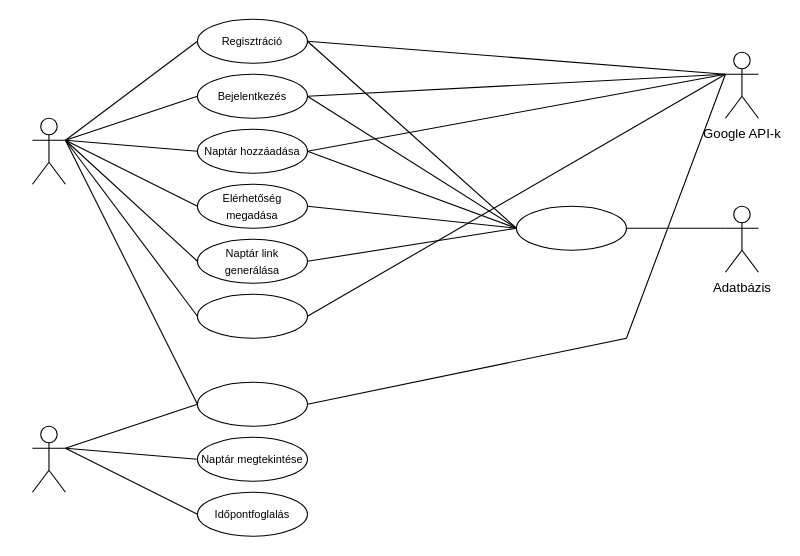
Some shapes in this 800 by 556 pixel diagram are drawn without their labels. The shapes that lost their labels are listed below. From the top down, each one's centre as x and y in pixels, then its label:
At (48,150): "Tanár".
At (570,227): "Adatkezelés".
At (251,315): "Órák számontartása Google Sheet-ben".
At (251,403): "Email a lefoglalt időpontról".
At (48,458): "Diák (Látogató)".
